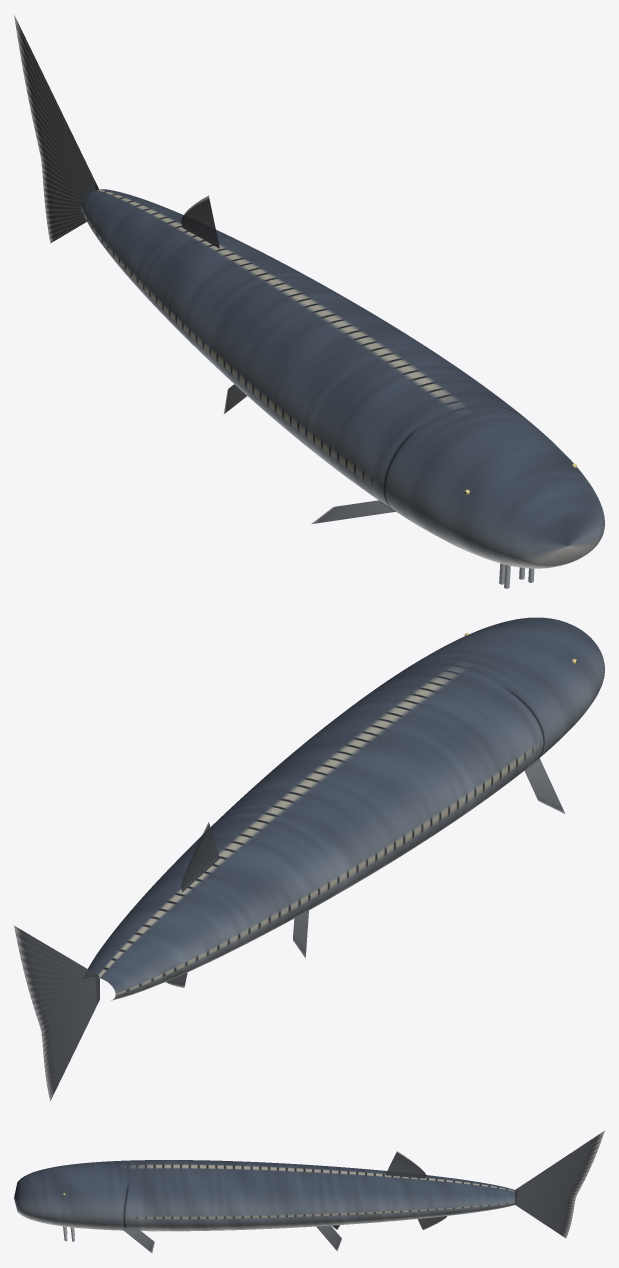
File: beluga.glb
3 renders of one model, top to bottom at view 1: azimuth 30°, elevation 25°; view 2: azimuth 150°, elevation 25°; view 3: azimuth 270°, elevation 25°, orthographic. The views are drawn at different scales.
Parts seen in each view (by area): view 1: body, fin_tail, fin_dorsal0, fin_pect_R; view 2: body, fin_tail, fin_dorsal0, fin_pect_R; view 3: body, fin_tail, fin_dorsal0, fin_pect_L, fin_pelv_L, fin_anal0.
Part boxes in pixels (bbox=[...]): body: bbox=[81, 189, 604, 568]; fin_tail: bbox=[14, 15, 99, 242]; fin_dorsal0: bbox=[181, 195, 219, 248]; fin_pect_R: bbox=[311, 500, 396, 524]; body: bbox=[88, 617, 604, 1000]; fin_tail: bbox=[14, 926, 99, 1100]; fin_dorsal0: bbox=[181, 822, 219, 892]; fin_pect_R: bbox=[524, 758, 564, 813]; body: bbox=[14, 1160, 514, 1231]; fin_tail: bbox=[514, 1130, 604, 1238]; fin_dorsal0: bbox=[385, 1151, 426, 1178]; fin_pect_L: bbox=[120, 1227, 154, 1253]; fin_pelv_L: bbox=[316, 1225, 341, 1251]; fin_anal0: bbox=[417, 1216, 447, 1229].
Bounding box in the file's own units: 0.5845 × 0.4536 × 2.2.
Materials: 6 (3 with a texture image).
